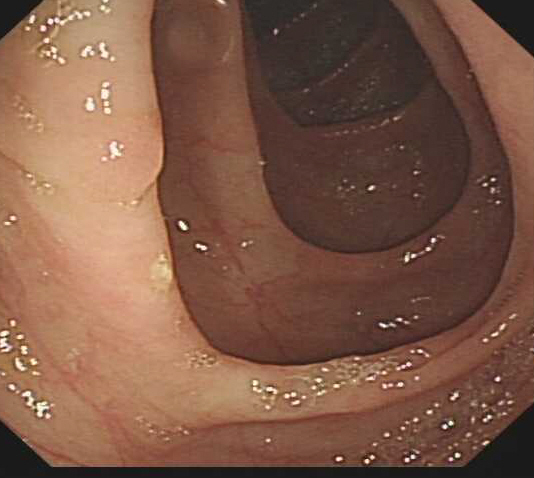others: (76, 116, 167, 201)
